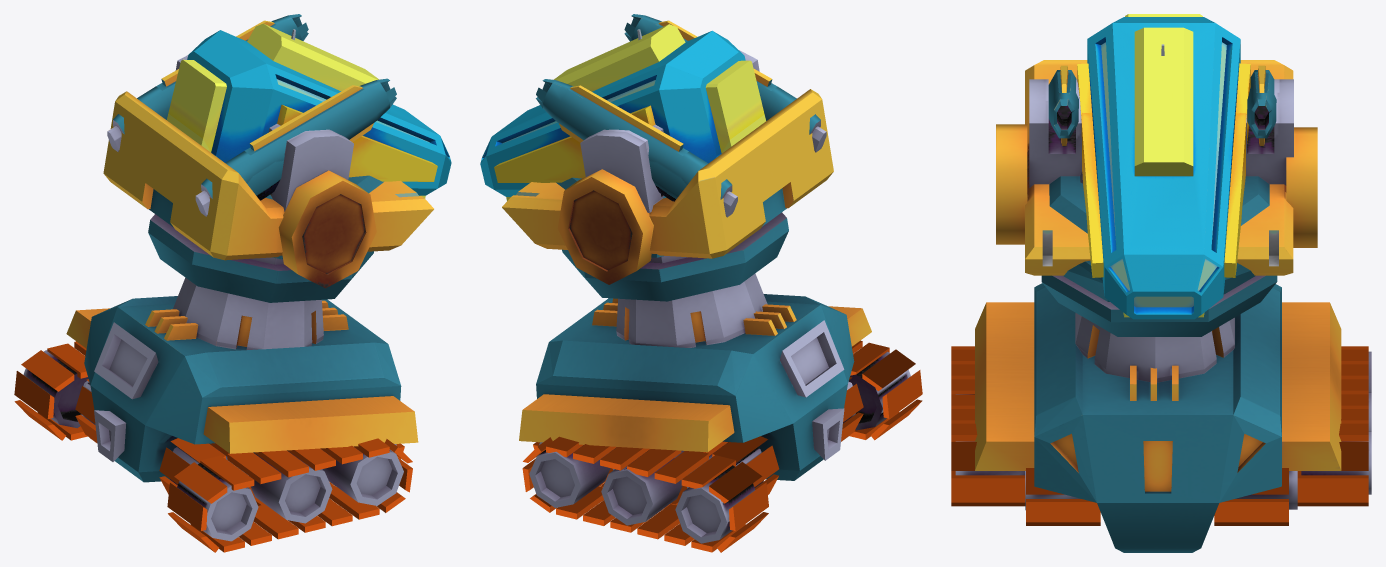
The model's file is Player_move_2_Upgrade3.obj.
The picture shows the model from 3 angles, left to right: view 1: azimuth 30°, elevation 25°; view 2: azimuth 150°, elevation 25°; view 3: azimuth 270°, elevation 25°; orthographic projection. The views are drawn at different scales.
Visible parts, largest first — view 1: Object015, Box020, Box018, Object014, Box019, Box017, Box016; view 2: Object015, Box019, Box018, Object014, Box020, Box016, Box017; view 3: Object015, Box019, Box020, Object014, Box017, Box016, Box018, Box009.
Boxes of the visible parts, x1,y1,x2,y2 form: Object015: (66,23,451,482); Box020: (167,438,412,552); Box018: (23,350,403,541); Object014: (107,14,396,216); Box019: (14,341,87,440); Box017: (159,438,404,505); Box016: (75,379,97,442); Object015: (480,24,871,480); Box019: (522,436,768,552); Box018: (529,351,910,543); Object014: (536,14,826,217); Box020: (849,340,922,440); Box016: (533,436,779,507); Box017: (841,376,863,441); Object015: (975,14,1341,552); Box019: (1297,346,1368,506); Box020: (951,346,1025,506); Object014: (1048,65,1276,145); Box017: (1026,468,1100,525); Box016: (1214,468,1288,525); Box018: (955,351,1371,494); Box009: (1025,471,1297,510).
Bounding box in the file's own units: 70.38 × 88.9 × 68.55.
6 materials, 4 textured.
